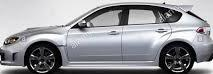Crossovers: (1, 4, 213, 74)
